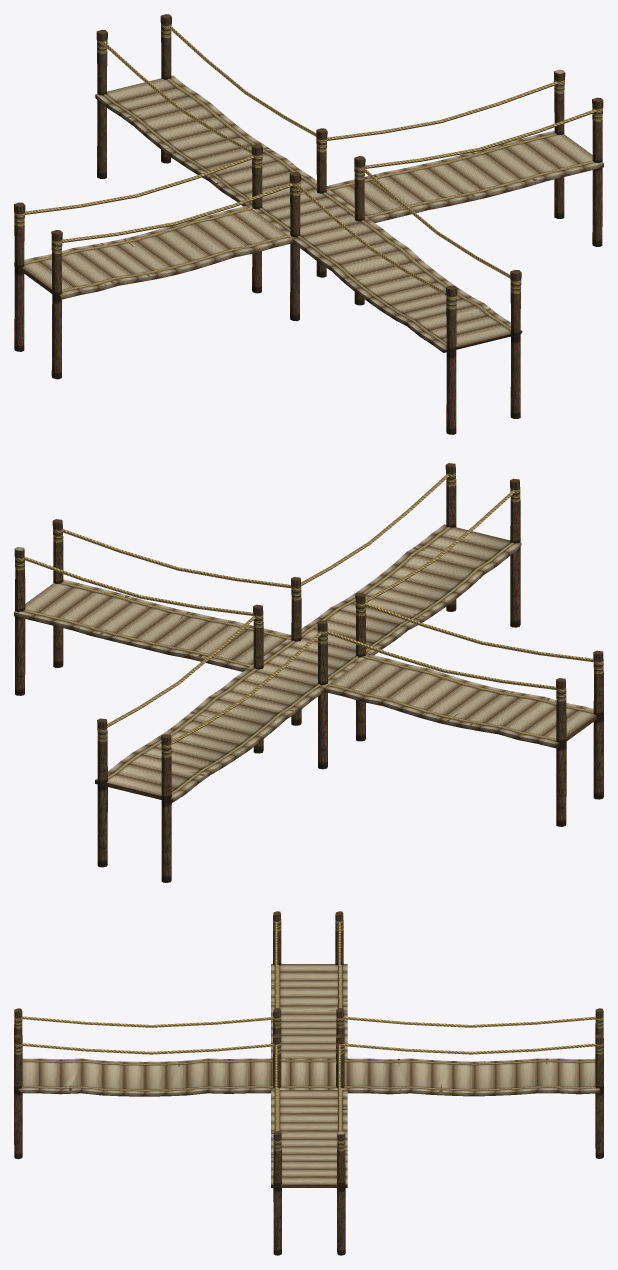
Rendered from p2_platform1_X_LOD0.fbx.
3 renders of one model, top to bottom at view 1: azimuth 30°, elevation 25°; view 2: azimuth 150°, elevation 25°; view 3: azimuth 270°, elevation 25°, orthographic. The views are drawn at different scales.
Visible parts, largest first — view 1: polymsh; view 2: polymsh; view 3: polymsh.
Part boxes in pixels (bbox=[...]): polymsh: bbox=[14, 14, 603, 434]; polymsh: bbox=[14, 463, 603, 882]; polymsh: bbox=[14, 911, 603, 1255].
Bounding box in the file's own units: 708 × 179 × 791.
